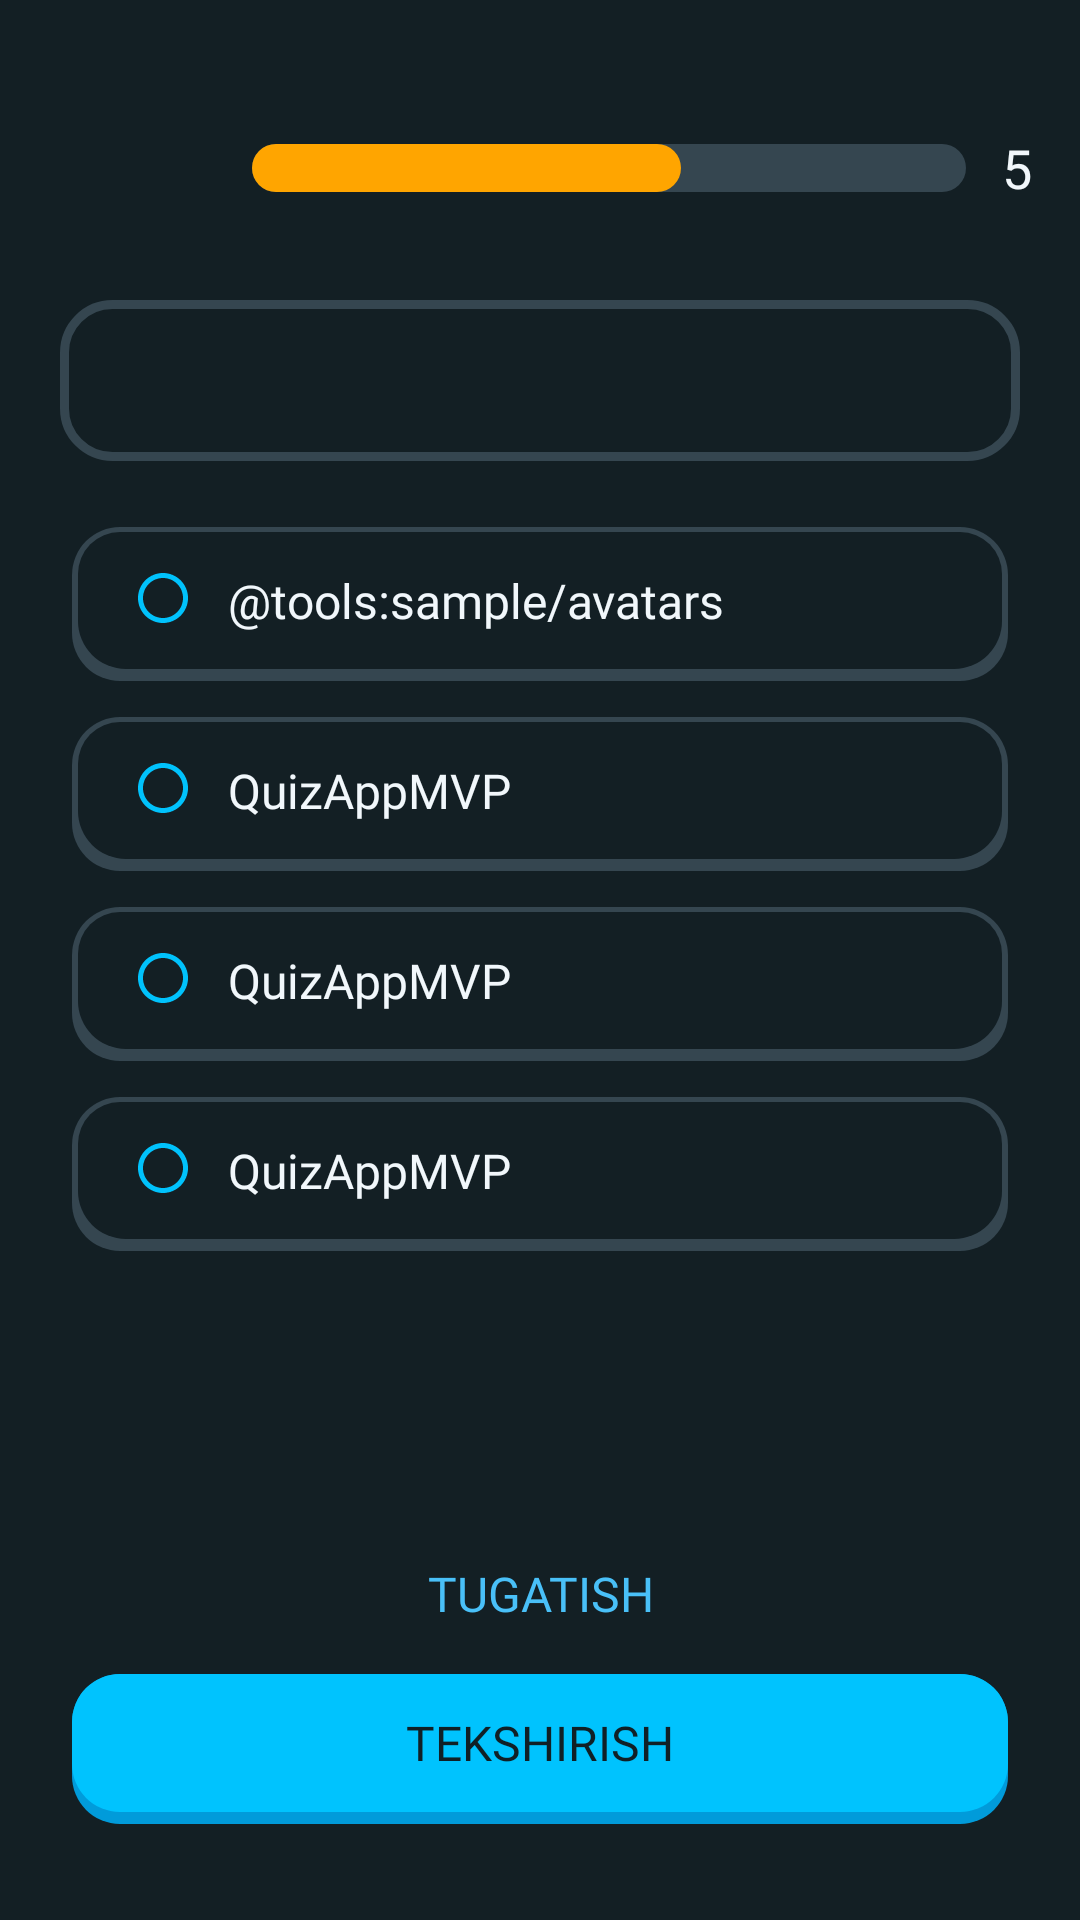

Icon bounding boxes for this 1080 × 1920 phone screenshot, format (x1, y1, x2, y2):
unchecked: (138, 573, 188, 623), (138, 763, 188, 813), (138, 953, 188, 1003), (138, 1143, 188, 1193)
